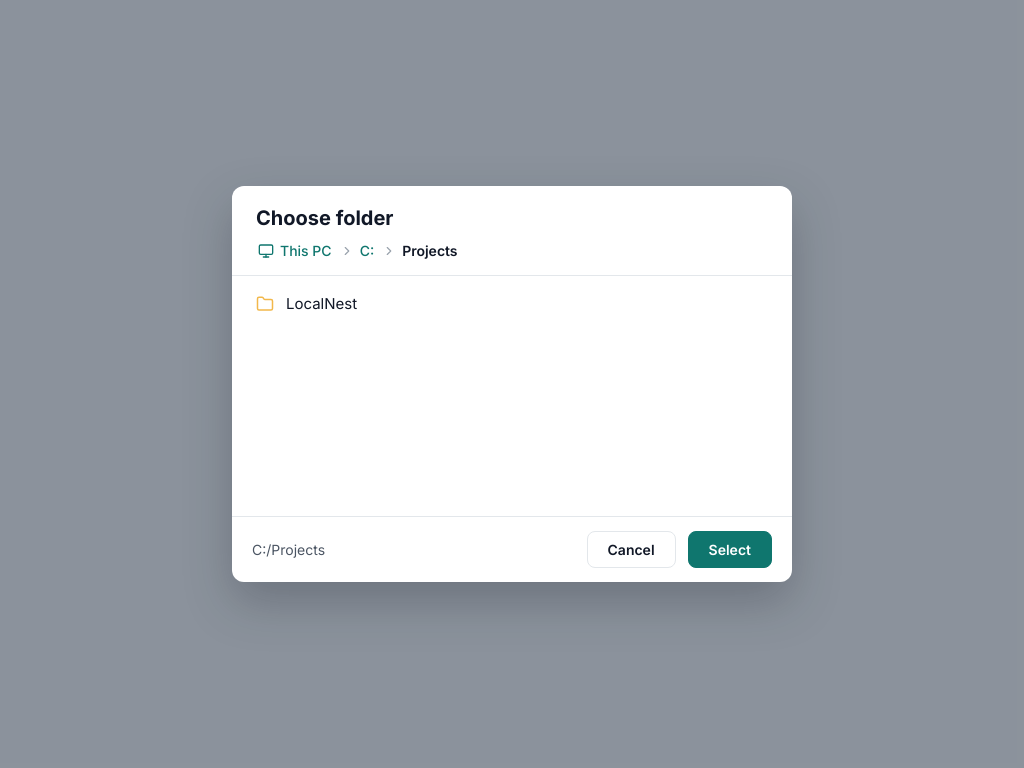
Test: FolderPickerDialog › goes back to the drives from the breadcrumb
Check: the button "LocalNest" is shown, box [244, 284, 780, 323]
Click the button "This PC" at (295, 250), box [252, 238, 338, 263]
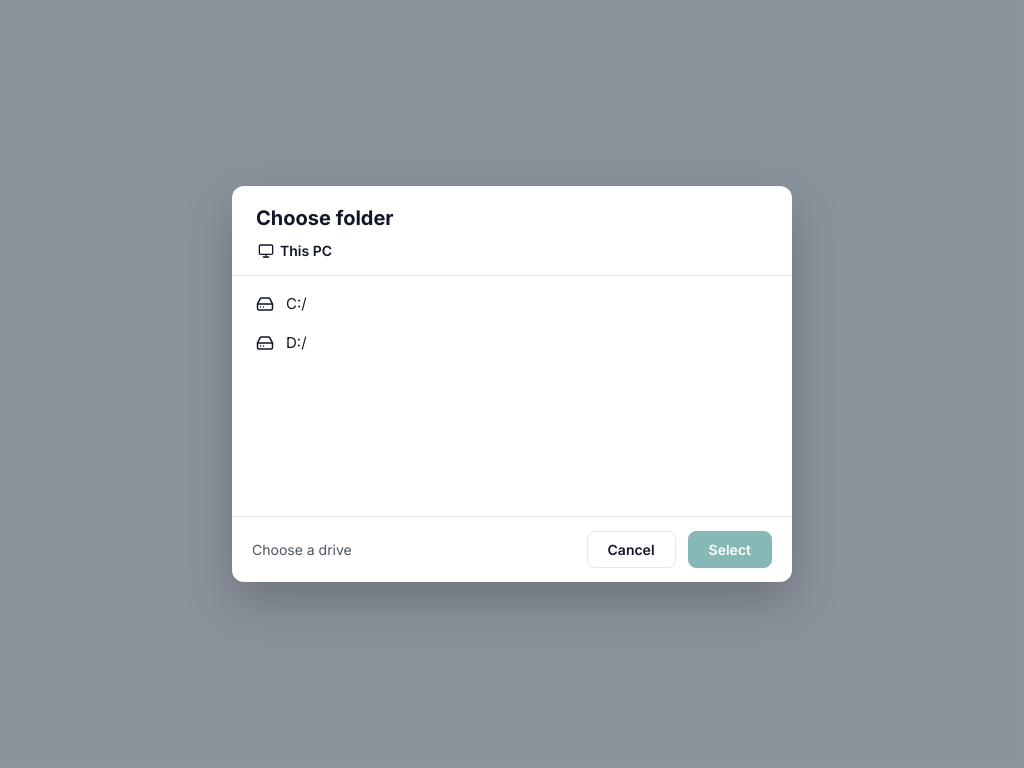
Check: the button "D:/" is shown, box [244, 323, 780, 362]
